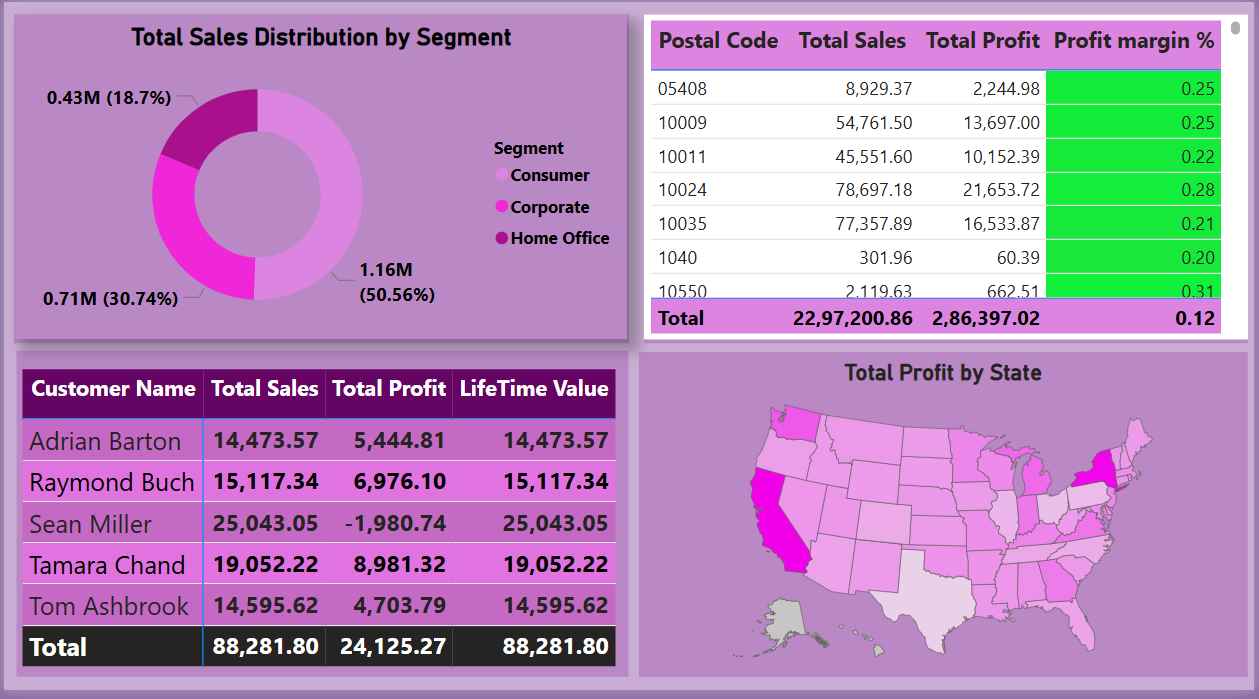

The dashboard page shown, as its layout file describes it:
{"tool":"powerbi","page":{"name":"Sales by Postal code","canvas":[1000,550],"ordinal":3},"visuals":[{"type":"shape","box":[10,278.6,490,261.4],"z":0},{"type":"shape","box":[8.3,10,491.7,263.3],"z":1000},{"type":"donutChart","title":"Total Sales Distribution by Segment","fields":{"Category":["Sample - Superstore.Segment"],"Y":["Sample - Superstore.Total Sales"]},"box":[8.9,10,490,260],"z":2000},{"type":"pivotTable","fields":{"Rows":["Sample - Superstore.Customer Name"],"Values":["Sample - Superstore.Total Sales","Sample - Superstore.Total Profit","Sample - Superstore.LifeTime Value"]},"box":[10,288.6,490,251.4],"z":3000},{"type":"shape","box":[511.7,10,483.3,263.3],"z":4000},{"type":"tableEx","fields":{"Values":["Sample - Superstore.Postal Code","Sample - Superstore.Total Sales","Sample - Superstore.Total Profit","Sample - Superstore.Profit margin %"]},"box":[511.7,10,483.3,260],"z":5000},{"type":"shape","box":[508.3,280,486.7,260],"z":6000},{"type":"shapeMap","fields":{"Value":["Sample - Superstore.Total Profit"],"Category":["Sample - Superstore.State"]},"box":[508,279,487,261],"z":7000}]}

Visuals, with their boxes in screenshot pixels (x1, y1, x2, y2), scaled from the page's 1000x550 canvas onto the 1259x699 screenshot:
shape: BBox(13, 354, 630, 686)
shape: BBox(10, 13, 630, 347)
"Total Sales Distribution by Segment" donutChart: BBox(11, 13, 628, 343)
pivotTable - Sample - Superstore.Customer Name x Sample - Superstore.Total Sales: BBox(13, 367, 630, 686)
shape: BBox(644, 13, 1253, 347)
tableEx - Sample - Superstore.Postal Code x Sample - Superstore.Total Sales: BBox(644, 13, 1253, 343)
shape: BBox(640, 356, 1253, 686)
shapeMap - Sample - Superstore.Total Profit x Sample - Superstore.State: BBox(640, 355, 1253, 686)
